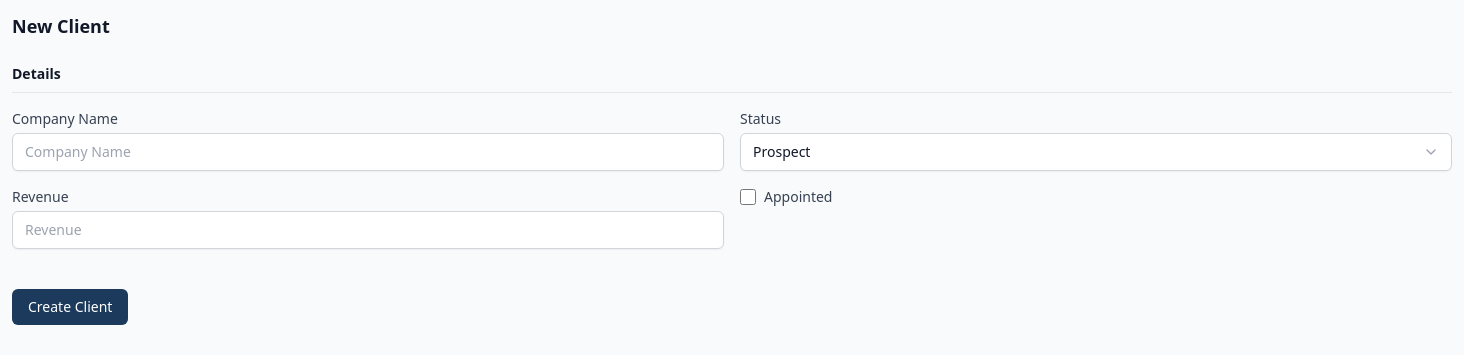
Test: DynamicEntityForm › renders enum field as dropdown
Note: Enum renders a Select, clicking should open dropdown options
Click the button "Prospect": coordinates (782, 152) [740,133,1452,171]
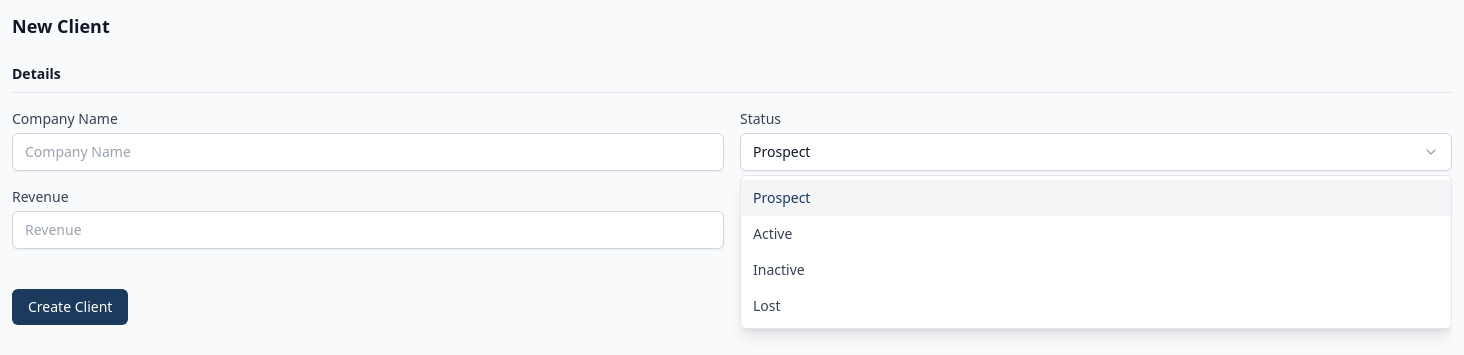
Expected: the option "Active" is shown, [753,224,792,243]
Expected: the option "Inactive" is shown, [753,260,805,279]
Expected: the option "Lost" is shown, [753,296,781,315]
